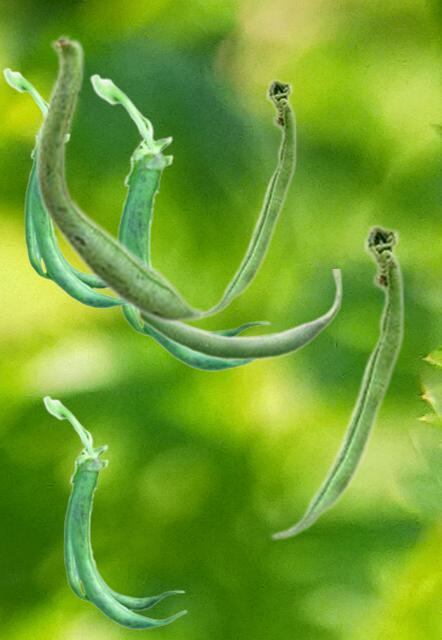french_bean: (89, 73, 271, 371), (34, 32, 204, 324), (269, 222, 404, 540), (42, 395, 186, 629), (2, 67, 124, 308), (205, 77, 296, 318), (137, 269, 342, 361)
